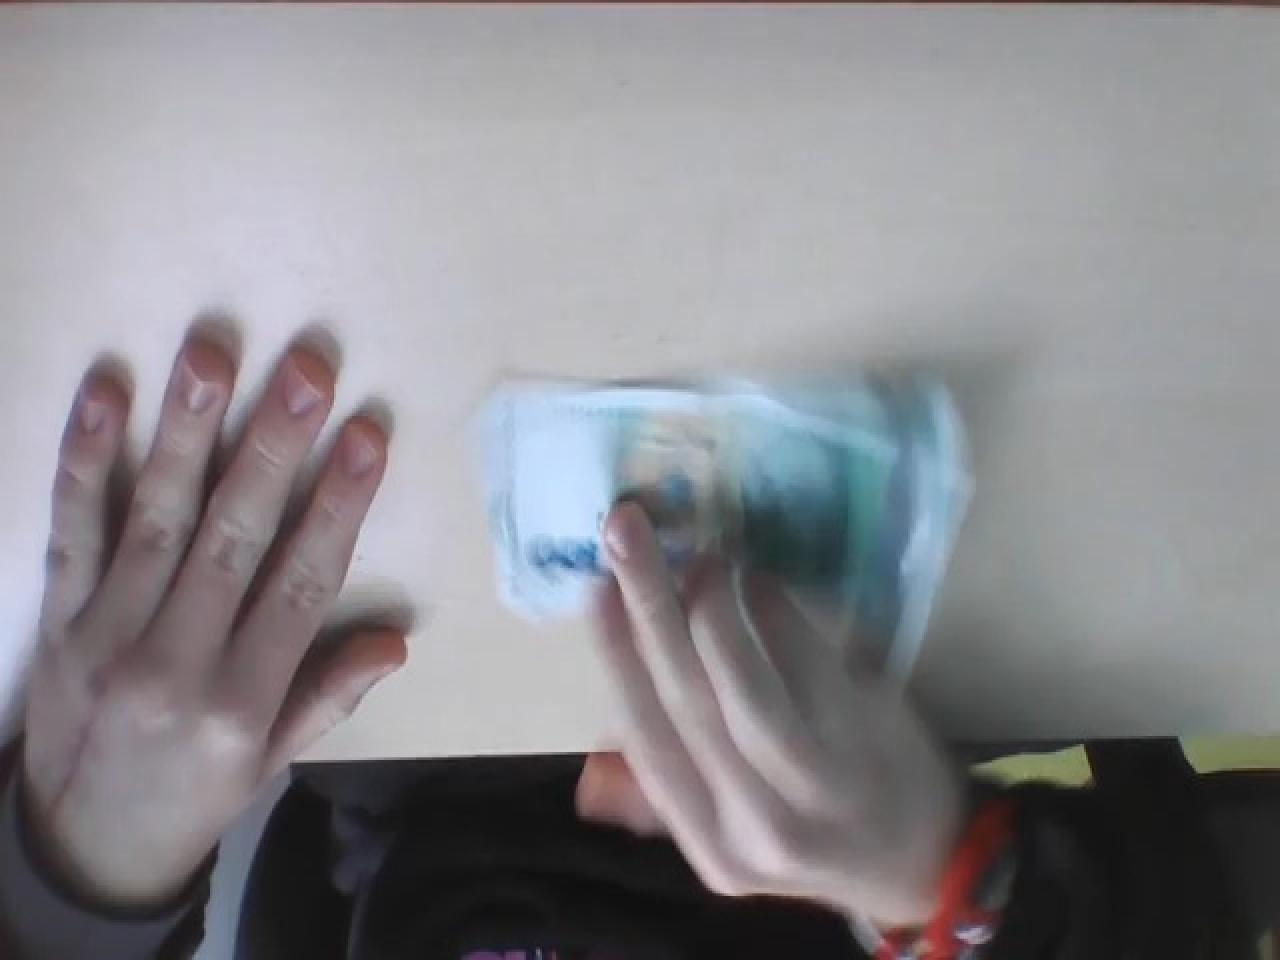100leva: (470, 368, 974, 691)
